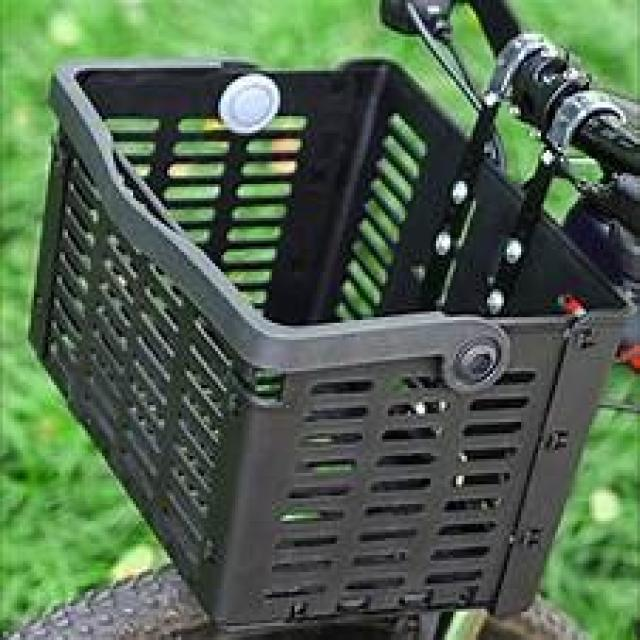basket: (19, 40, 640, 624)
